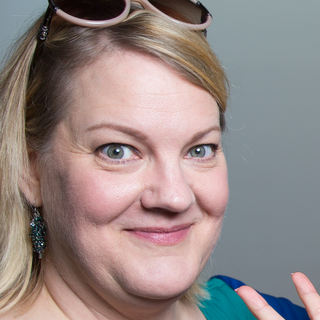eye: (90, 138, 145, 168), (178, 141, 222, 165)
